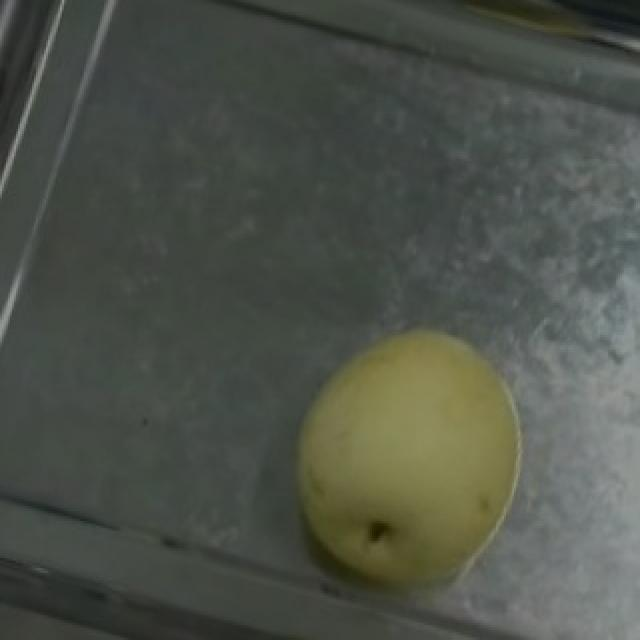Fruit: (252, 295, 552, 635)
